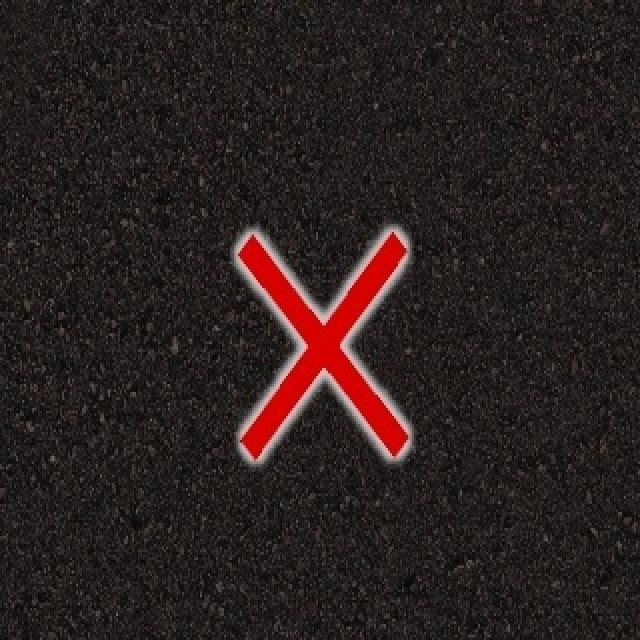x_marker: (237, 231, 407, 457)
